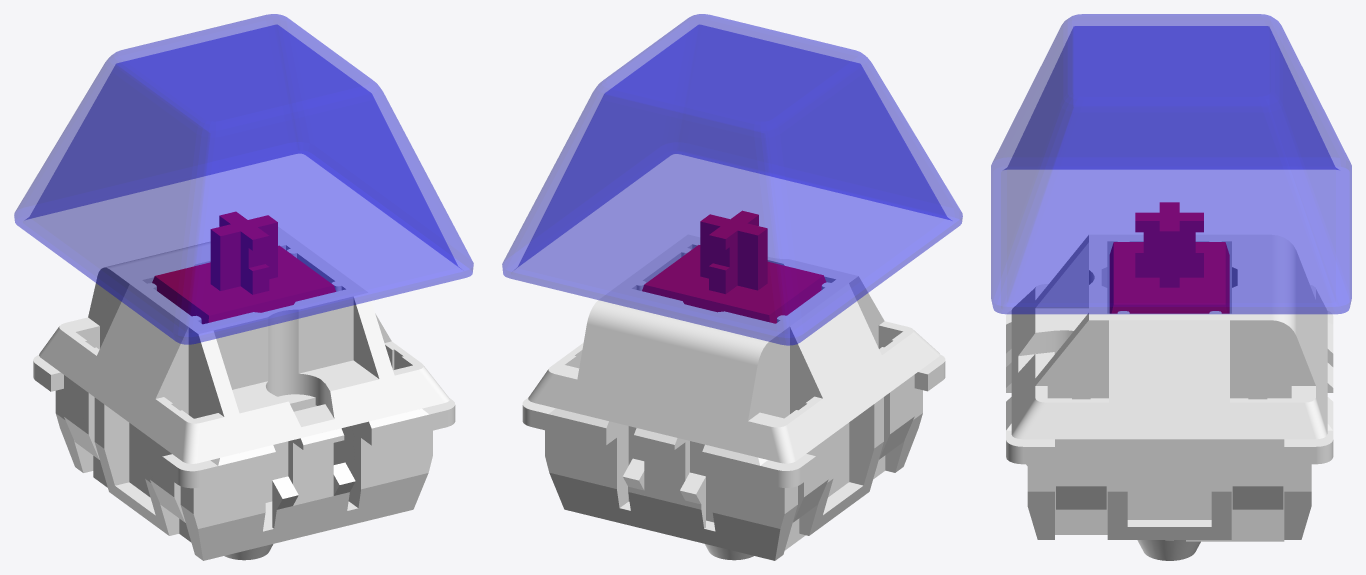
File: blue.glb
3 renders of one model, left to right at view 1: azimuth 30°, elevation 25°; view 2: azimuth 150°, elevation 25°; view 3: azimuth 270°, elevation 25°, orthographic. The views are drawn at different scales.
Parts seen in each view (by area): view 1: Cube, Solid 154, Solid 87, Solid 208; view 2: Cube, Solid 154, Solid 87, Solid 208; view 3: Cube, Solid 154, Solid 87, Solid 208.
Part boxes in pixels (box(x1,y1,x2,y2)): Cube: box(14, 14, 473, 344); Solid 154: box(39, 227, 449, 522); Solid 87: box(33, 355, 455, 560); Solid 208: box(152, 211, 335, 323); Cube: box(502, 14, 962, 345); Solid 154: box(528, 234, 939, 522); Solid 87: box(522, 354, 945, 560); Solid 208: box(642, 210, 825, 323); Cube: box(991, 14, 1351, 313); Solid 154: box(1011, 234, 1327, 509); Solid 87: box(1006, 311, 1333, 560); Solid 208: box(1109, 202, 1229, 313).
Bounding box in the file's own units: 1.69 × 2.6 × 1.72.
